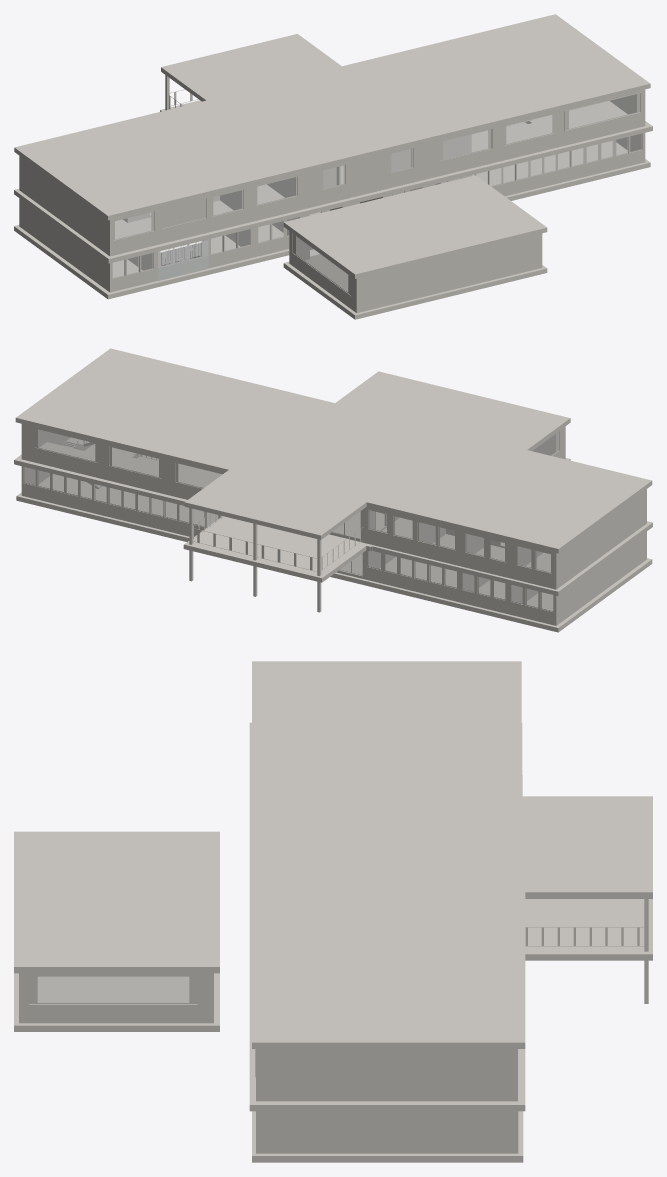
Rendered from iot_walk.glb.
3 renders of one model, top to bottom at view 1: azimuth 30°, elevation 25°; view 2: azimuth 150°, elevation 25°; view 3: azimuth 270°, elevation 25°, orthographic. The views are drawn at different scales.
Parts seen in each view (by area): view 1: BEYOND_L2_SLAB, BEYOND_L1_WALL, BEYOND_L0_WALL, BEYOND_L0_SLAB, BEYOND_L1_SLAB, BEYOND_L1_GLASS, BEYOND_L0_GLASS, UPPER_in_zone, BEYOND_L1_FRAME, BEYOND_L0_FRAME, BAKE_wall_south, BEYOND_L1_OTHER (+2 smaller); view 2: BEYOND_L2_SLAB, BEYOND_L1_WALL, BEYOND_L1_SLAB, BEYOND_L0_WALL, BEYOND_L0_SLAB, BEYOND_L1_GLASS, BEYOND_L0_GLASS, UPPER_in_zone, BEYOND_L1_FRAME, BEYOND_L0_FRAME, BEYOND_L1_OTHER, BEYOND_L1_STAIR (+3 smaller); view 3: BEYOND_L2_SLAB, BEYOND_L0_WALL, BEYOND_L1_WALL, BEYOND_L1_SLAB, BEYOND_L0_SLAB, UPPER_in_zone, BEYOND_L0_GLASS, BEYOND_L0_FRAME.
Boxes of the visible parts, x1,y1,x2,y2 form: BEYOND_L2_SLAB: (14,14,650,278); BEYOND_L1_WALL: (19,89,645,256); BEYOND_L0_WALL: (19,133,645,313); BEYOND_L0_SLAB: (14,122,650,319); BEYOND_L1_SLAB: (14,100,652,263); BEYOND_L1_GLASS: (115,94,636,238); BEYOND_L0_GLASS: (113,134,641,291); UPPER_in_zone: (121,163,208,244); BEYOND_L1_FRAME: (113,93,640,240); BEYOND_L0_FRAME: (112,134,642,295); BAKE_wall_south: (158,232,208,280); BEYOND_L1_OTHER: (112,89,641,240); BEYOND_L2_SLAB: (15,348,652,553); BEYOND_L1_WALL: (21,424,646,589); BEYOND_L1_SLAB: (14,442,652,596); BEYOND_L0_WALL: (21,426,646,625); BEYOND_L0_SLAB: (16,444,652,632); BEYOND_L1_GLASS: (38,429,550,572); BEYOND_L0_GLASS: (24,434,555,610); UPPER_in_zone: (512,457,598,495); BEYOND_L1_FRAME: (34,428,551,573); BEYOND_L0_FRAME: (23,431,558,611); BEYOND_L1_OTHER: (34,428,551,573); BEYOND_L1_STAIR: (136,454,500,570); BEYOND_L2_SLAB: (14,661,652,1048); BEYOND_L0_WALL: (19,973,518,1153); BEYOND_L1_WALL: (256,1049,517,1101); BEYOND_L1_SLAB: (249,722,652,1111); BEYOND_L0_SLAB: (14,775,523,1162); UPPER_in_zone: (256,697,362,733); BEYOND_L0_GLASS: (38,977,188,1002); BEYOND_L0_FRAME: (29,976,197,1003).
Bounding box in the file's own units: 38.22 × 5.6 × 27.
Materials: 11 (8 with a texture image).
